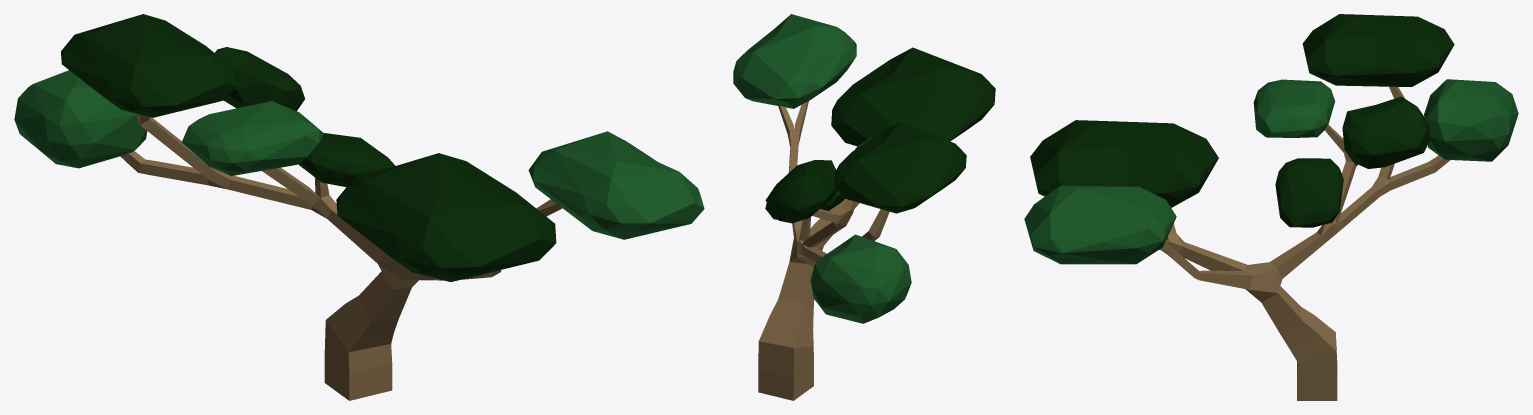
The model's file is tree_green_01.fbx.
3 renders of one model, left to right at view 1: azimuth 30°, elevation 25°; view 2: azimuth 150°, elevation 25°; view 3: azimuth 270°, elevation 25°, orthographic. The views are drawn at different scales.
Visible parts, largest first — view 1: Icosphere.019, Cube.004, Icosphere.020, Icosphere.015, Icosphere.014, Icosphere.016, Icosphere.017, Icosphere.018; view 2: Icosphere.019, Cube.004, Icosphere.015, Icosphere.020, Icosphere.014, Icosphere.017, Icosphere.018; view 3: Cube.004, Icosphere.019, Icosphere.020, Icosphere.015, Icosphere.014, Icosphere.017, Icosphere.016, Icosphere.018.
Part boxes in pixels (box(x1,y1,x2,y2)): Icosphere.019: box(336, 153, 556, 281); Cube.004: box(120, 114, 562, 400); Icosphere.020: box(528, 131, 704, 239); Icosphere.015: box(61, 14, 237, 117); Icosphere.014: box(14, 70, 147, 168); Icosphere.016: box(182, 101, 323, 175); Icosphere.017: box(215, 47, 304, 110); Icosphere.018: box(298, 133, 395, 187); Icosphere.019: box(831, 47, 995, 146); Cube.004: box(758, 101, 889, 400); Icosphere.015: box(834, 122, 966, 213); Icosphere.020: box(733, 14, 856, 108); Icosphere.014: box(810, 234, 911, 323); Icosphere.017: box(765, 160, 837, 223); Icosphere.018: box(765, 190, 844, 219); Cube.004: box(1159, 86, 1450, 400); Icosphere.019: box(1030, 120, 1218, 207); Icosphere.020: box(1024, 185, 1176, 264); Icosphere.015: box(1302, 14, 1454, 86); Icosphere.014: box(1424, 79, 1518, 161); Icosphere.017: box(1342, 96, 1429, 168); Icosphere.016: box(1253, 79, 1335, 137); Icosphere.018: box(1275, 158, 1343, 227).
Size of the model in its own units: 1438 by 1201 by 1796.
